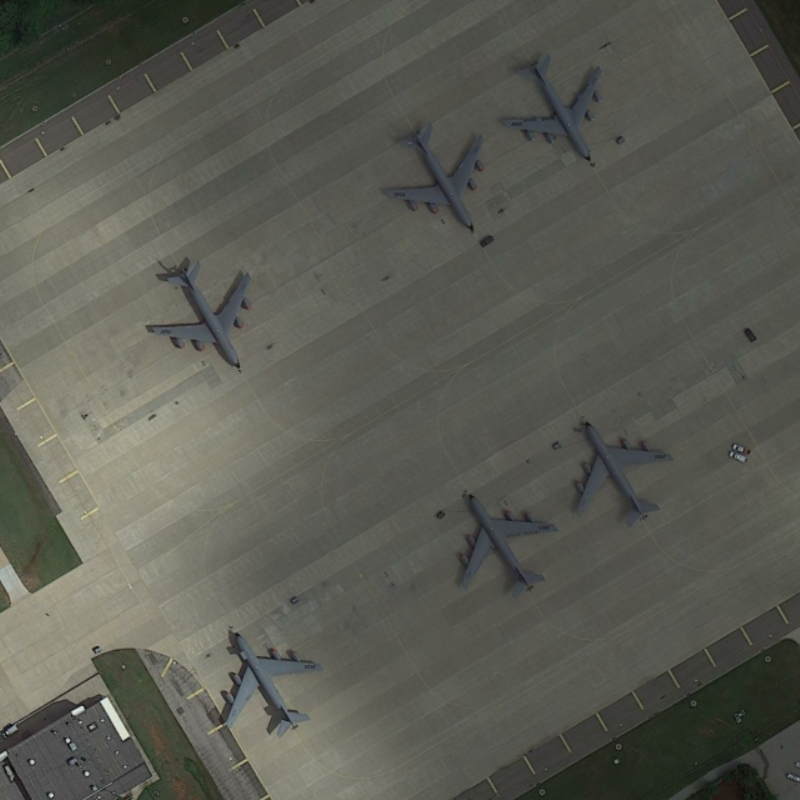A14: (139, 247, 258, 374), (211, 615, 323, 741), (505, 46, 613, 172), (448, 484, 563, 602), (386, 118, 498, 239), (562, 415, 680, 529)
